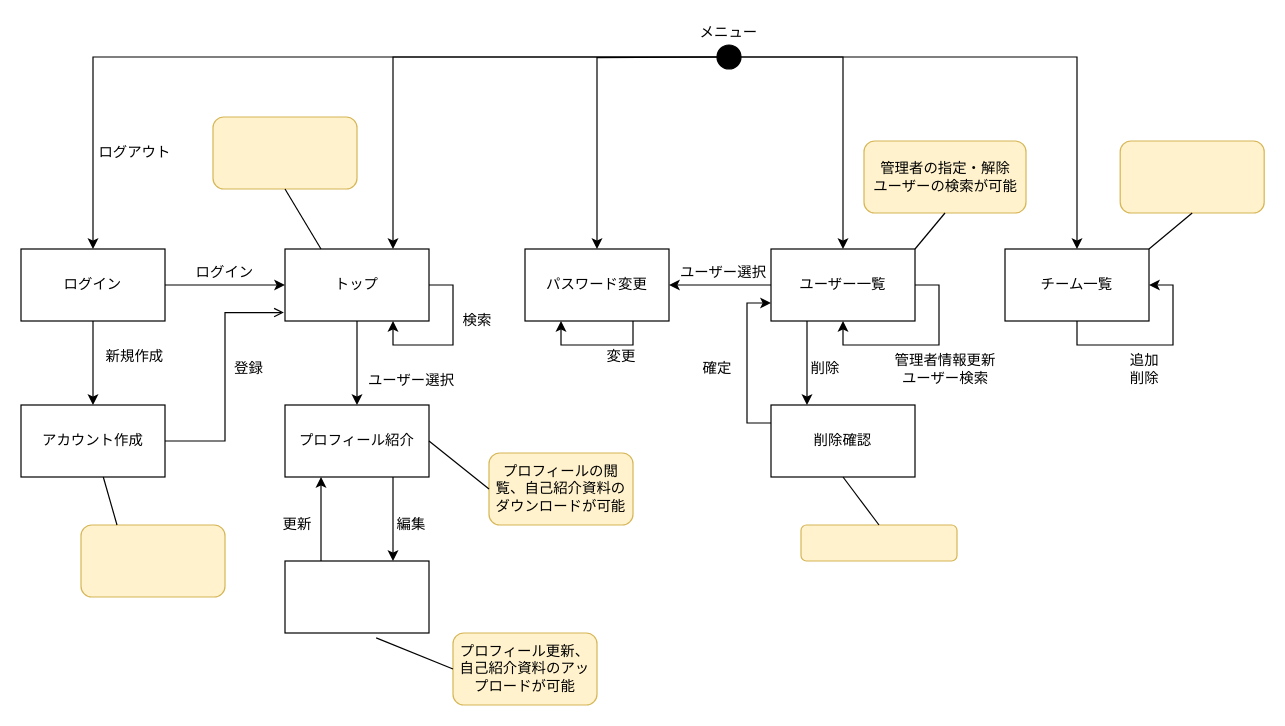
Image size: 1285x726. Some labels were removed from this diagram. The shapes that lost their labels are listed below. From the top down, each one's centre as x and y in pixels, then its label:
point (284, 152): プロフィールの一覧が表示されている。検索が可能。
point (1191, 176): ユーザの所属チームの選択肢を増減可能
point (152, 560): 社員番号、パスワード、プロフィール情報の登録
point (878, 542): モーダル画面
point (356, 596): プロフィール更新
